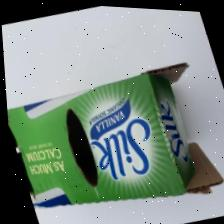cardboard: (2, 41, 223, 224)
